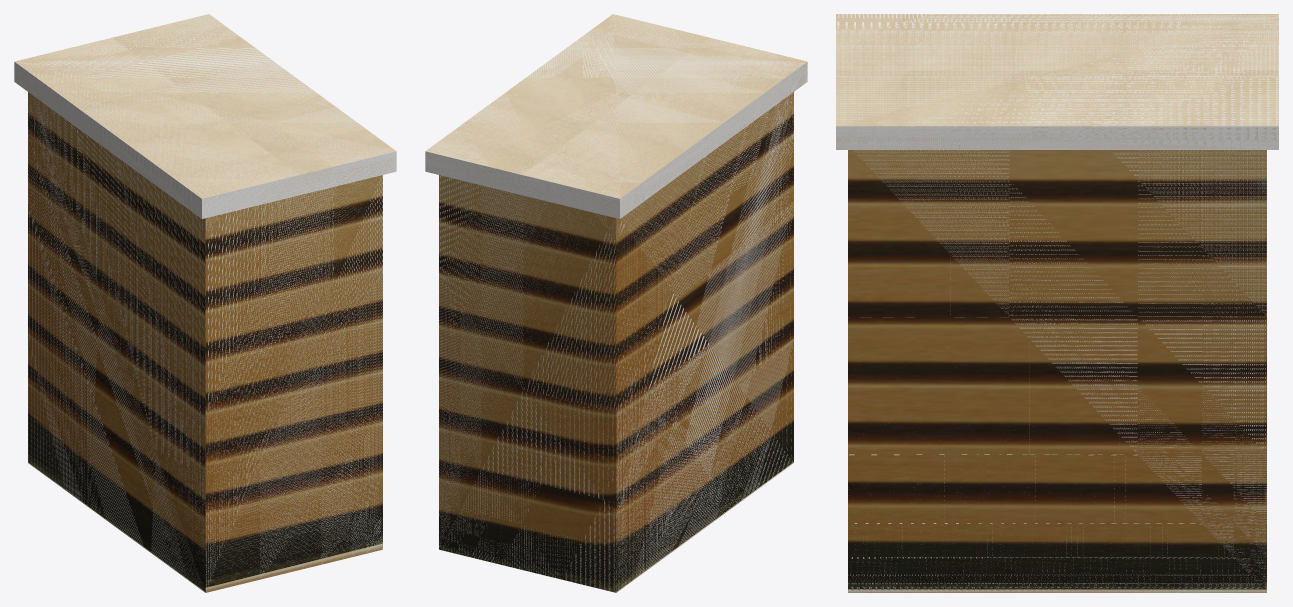
The model's file is counter.dae.
3 views of the same model, side by side, from view 1: azimuth 30°, elevation 25°; view 2: azimuth 150°, elevation 25°; view 3: azimuth 270°, elevation 25° (orthographic). The views are drawn at different scales.
Parts seen in each view (by area): view 1: SketchUp (×2); view 2: SketchUp (×2); view 3: SketchUp (×2).
Boxes of the visible parts, <box> form: SketchUp (×2): <box>14,14,396,592</box>; SketchUp (×2): <box>425,14,807,592</box>; SketchUp (×2): <box>836,14,1278,592</box>.
Bounding box in the file's own units: 0.4433 × 0.7395 × 0.8696.
5 materials, 3 textured.
